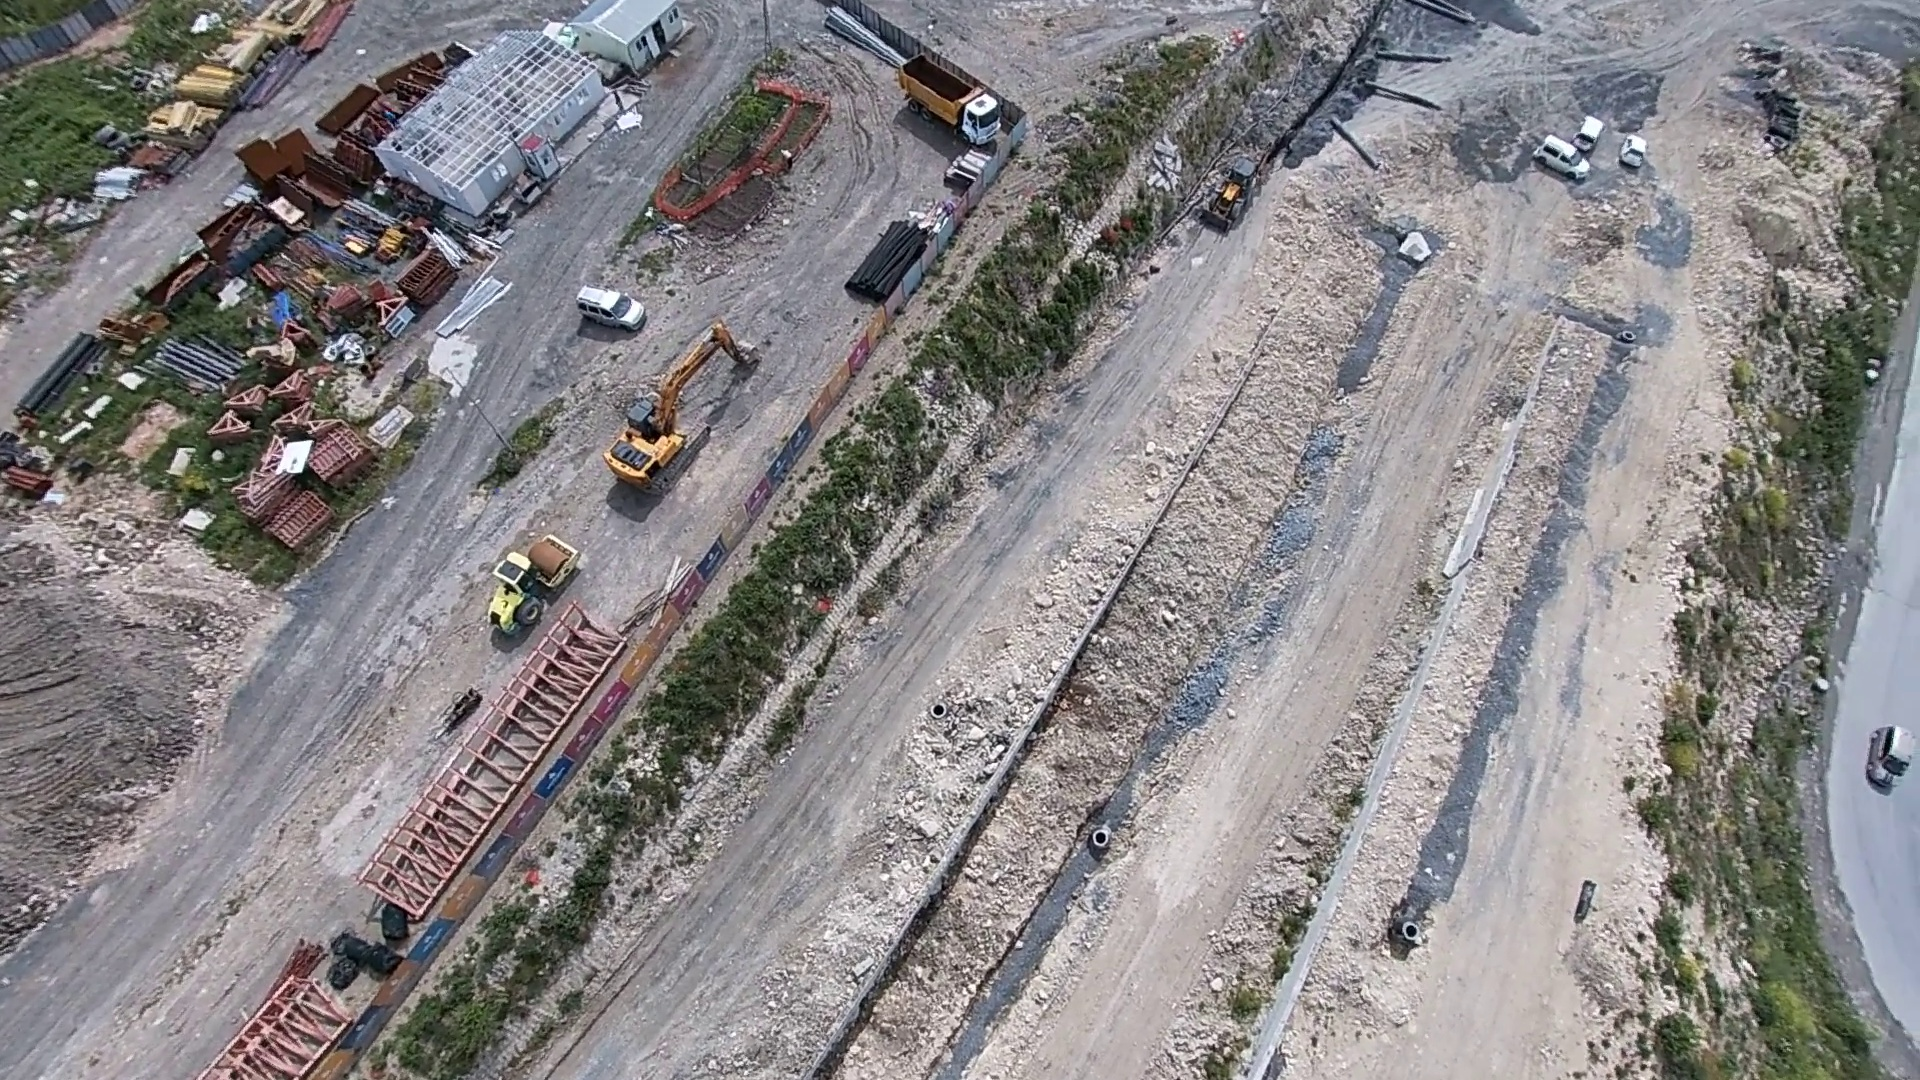araba: (1866, 721, 1920, 800), (1520, 129, 1596, 185), (578, 285, 649, 334), (1571, 111, 1611, 156), (1615, 129, 1662, 165)
ismakinesi: (597, 313, 765, 495)
kamyon: (891, 44, 1007, 149)
traktor: (480, 527, 585, 642), (1197, 153, 1271, 239)
